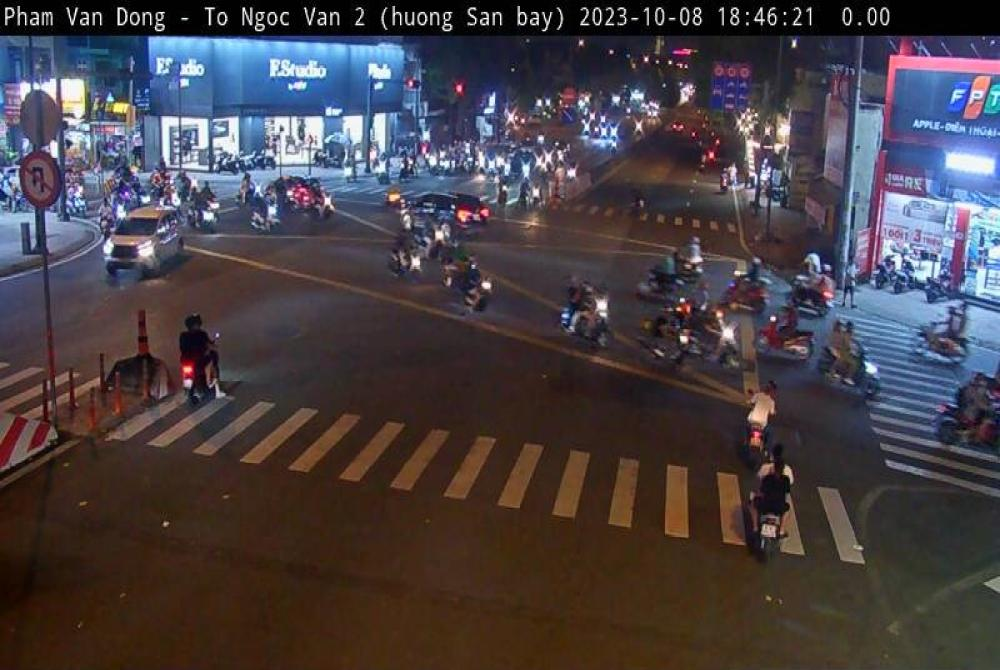car: (100, 206, 186, 277), (403, 192, 489, 241)
motorbike: (754, 512, 786, 564)
